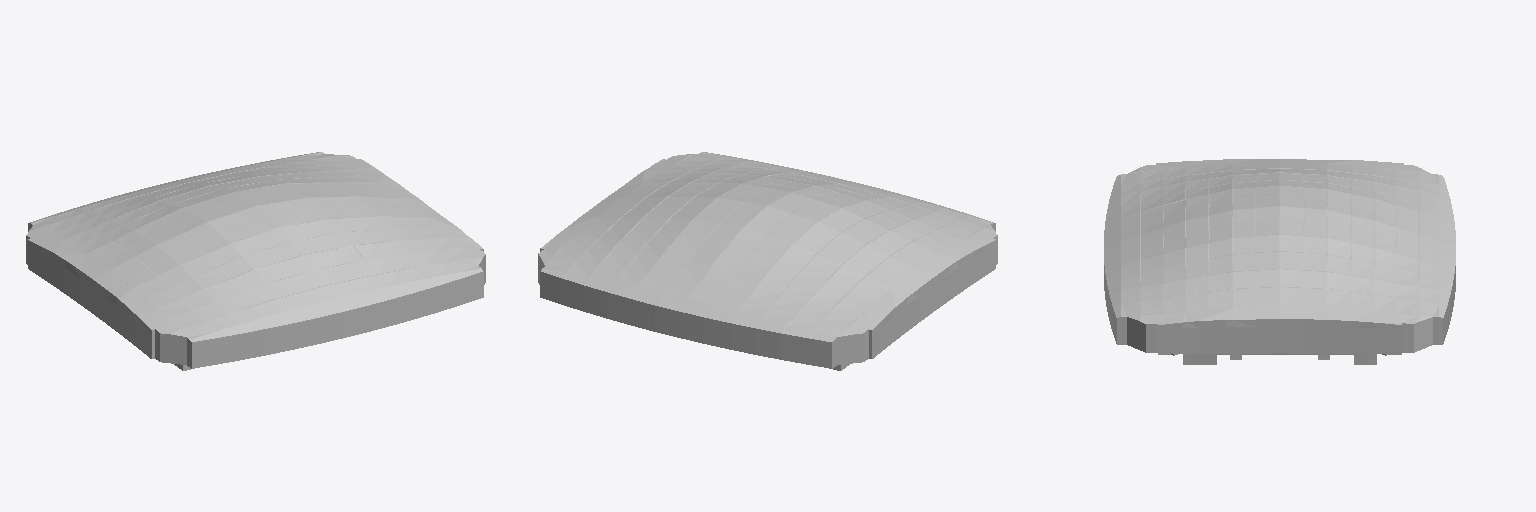
File: halaWidowiskowa.obj
3 renders of one model, left to right at view 1: azimuth 30°, elevation 25°; view 2: azimuth 150°, elevation 25°; view 3: azimuth 270°, elevation 25°, orthographic.
Parts seen in each view (by area): view 1: model_CUEASE-$à___50__curve_; view 2: model_CUEASE-$à___50__curve_; view 3: model_CUEASE-$à___50__curve_.
Part boxes in pixels (x1,y1,x2,y2): model_CUEASE-$à___50__curve_: (26, 152, 485, 370); model_CUEASE-$à___50__curve_: (538, 152, 997, 370); model_CUEASE-$à___50__curve_: (1104, 159, 1455, 364).
Size of the model in its own units: 80.69 by 23.28 by 74.12.